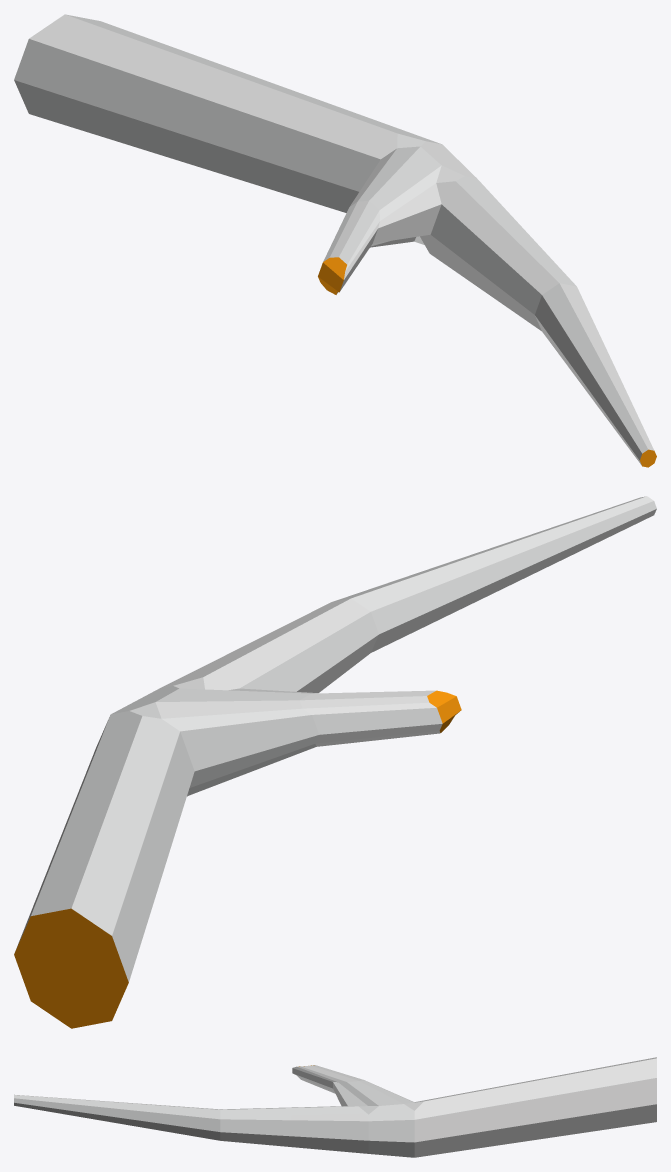
File: Stick_23.fbx
3 renders of one model, top to bottom at view 1: azimuth 30°, elevation 25°; view 2: azimuth 150°, elevation 25°; view 3: azimuth 270°, elevation 25°, orthographic. The views are drawn at different scales.
Visible parts, largest first — view 1: Circle.219; view 2: Circle.219; view 3: Circle.219.
Boxes of the visible parts, x1=… form: Circle.219: x1=14, y1=14, x2=656, y2=467; Circle.219: x1=14, y1=496, x2=656, y2=1028; Circle.219: x1=14, y1=1057, x2=656, y2=1157.
Bounding box in the file's own units: 7.87 × 3.41 × 31.71.
